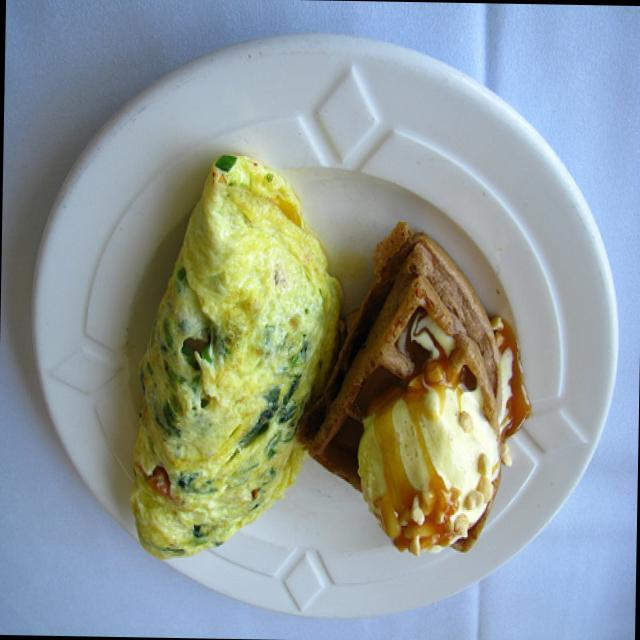Omelet: (128, 153, 336, 572)
